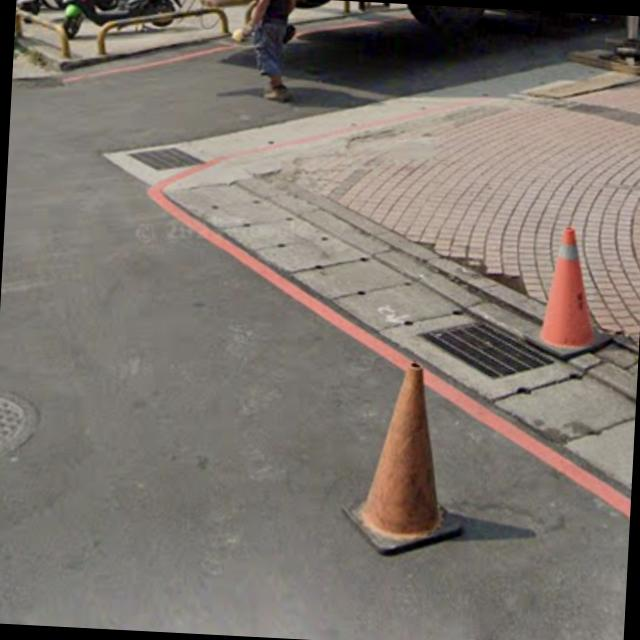cone: (341, 347, 478, 558), (527, 223, 621, 352)
